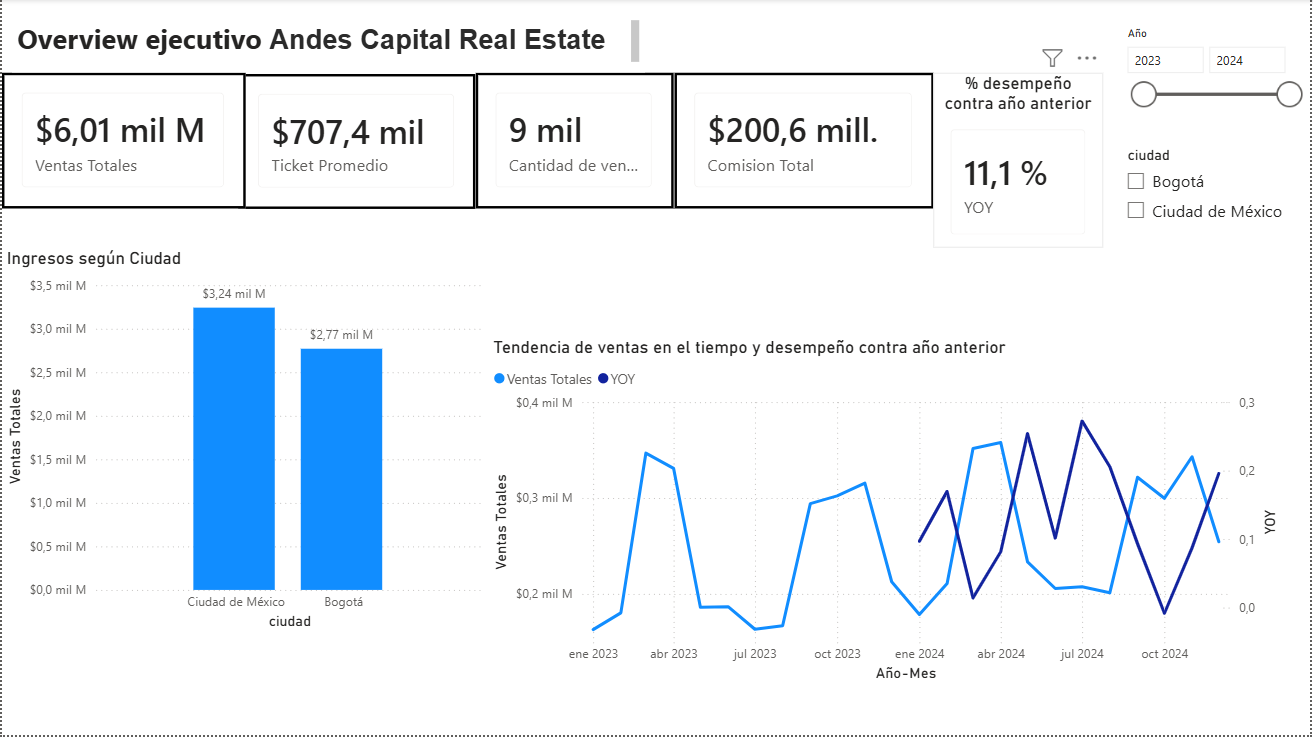

What the dashboard file says about the page in this screenshot:
{"tool":"powerbi","page":{"name":"Overview Ejecutivo","canvas":[1280,720],"ordinal":0},"visuals":[{"type":"cardVisual","fields":{"Data":["hecho_ventas_propiedades (1).Cantidad de ventas"]},"box":[463.8,72.7,193.5,133.1],"z":0},{"type":"cardVisual","fields":{"Data":["hecho_ventas_propiedades (1).Comision Total"]},"box":[657.3,72.7,253.9,133.1],"z":1000},{"type":"cardVisual","fields":{"Data":["hecho_ventas_propiedades (1).Venta Promedio"]},"box":[231.1,73.4,232.3,132.1],"z":2000},{"type":"cardVisual","fields":{"Data":["hecho_ventas_propiedades (1).Ventas Totales"]},"box":[0,72.7,238.8,133.1],"z":3000},{"type":"columnChart","title":"Ingresos según Ciudad","fields":{"Category":["hecho_ventas_propiedades (1).ciudad"],"Y":["hecho_ventas_propiedades (1).Ventas Totales"]},"box":[0,242.9,476.2,378.7],"z":4000},{"type":"lineChart","title":"Tendencia de ventas en el tiempo y desempeño contra año anterior","fields":{"Y":["hecho_ventas_propiedades (1).Ventas Totales"],"Category":["Dim_Fecha.Año-Mes"],"Y2":["hecho_ventas_propiedades (1).Yoy"]},"box":[475.7,330.2,777.7,342.4],"z":5000},{"type":"cardVisual","title":"% desempeño contra año anterior","fields":{"Data":["hecho_ventas_propiedades (1).Yoy"]},"box":[911.2,72.7,166,133.1],"z":6000},{"type":"textbox","box":[9.6,16.5,618.9,56.3],"z":7000},{"type":"slicer","fields":{"Values":["Dim_Fecha.Año"]},"box":[1088.2,22,192.1,102.9],"z":8000},{"type":"slicer","fields":{"Values":["hecho_ventas_propiedades (1).ciudad"]},"box":[1088.2,140,192.1,90.6],"z":9000}]}

Visuals, with their boxes in screenshot pixels (x1, y1, x2, y2), scaled from the page's 1280x720 canvas onto the 1313x737 screenshot:
cardVisual - hecho_ventas_propiedades (1).Cantidad de ventas: x1=476 y1=74 x2=674 y2=211
cardVisual - hecho_ventas_propiedades (1).Comision Total: x1=674 y1=74 x2=935 y2=211
cardVisual - hecho_ventas_propiedades (1).Venta Promedio: x1=237 y1=75 x2=475 y2=210
cardVisual - hecho_ventas_propiedades (1).Ventas Totales: x1=0 y1=74 x2=245 y2=211
"Ingresos según Ciudad" columnChart: x1=0 y1=249 x2=488 y2=636
"Tendencia de ventas en el tiempo y desempeño contra año anterior" lineChart: x1=488 y1=338 x2=1286 y2=688
"% desempeño contra año anterior" cardVisual: x1=935 y1=74 x2=1105 y2=211
textbox: x1=10 y1=17 x2=645 y2=75
slicer - Dim_Fecha.Año: x1=1116 y1=23 x2=1312 y2=128
slicer - hecho_ventas_propiedades (1).ciudad: x1=1116 y1=143 x2=1312 y2=236
